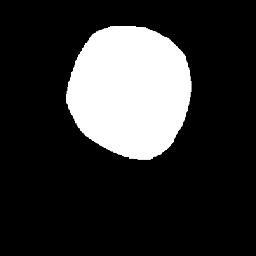mass: (65, 29, 189, 161)
